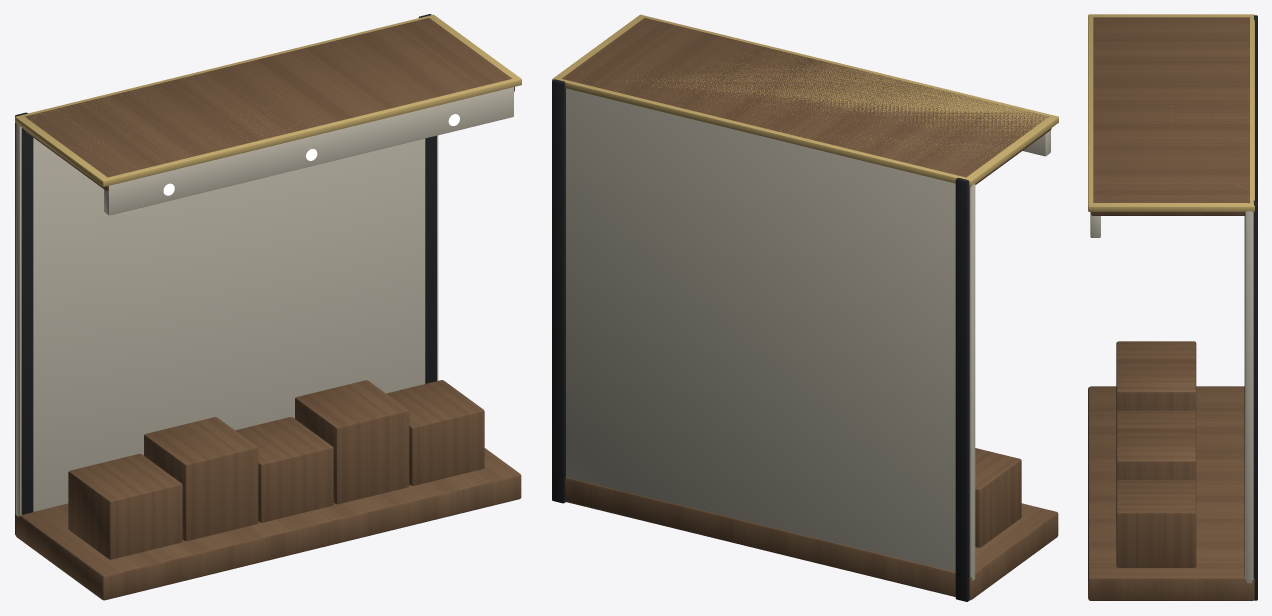
Rendered from pf_display_window_display_t4.glb.
The picture shows the model from 3 angles, left to right: view 1: azimuth 30°, elevation 25°; view 2: azimuth 150°, elevation 25°; view 3: azimuth 270°, elevation 25°; orthographic projection. The views are drawn at different scales.
Visible parts, largest first — view 1: Window_Backdrop, Crown_Main, Window_Display_Platform, Header_Back, Display_Plinth_01, Display_Plinth_04, Display_Plinth_02, Display_Plinth_03, Display_Plinth_05, Crown_Trim, Window_Frame_-1.16, Window_Frame_+1.16; view 2: Window_Backdrop, Crown_Main, Crown_Trim, Window_Display_Platform, Window_Frame_-1.16, Window_Frame_+1.16, Display_Plinth_01; view 3: Crown_Main, Window_Display_Platform, Display_Plinth_05, Display_Plinth_02, Display_Plinth_04, Crown_Trim, Window_Backdrop, Window_Frame_+1.16, Display_Plinth_01, Display_Plinth_03, Window_Frame_-1.16, Header_Back.
Part boxes in pixels (left/top/right/bottom): Window_Backdrop: left=15, top=123, right=438, bottom=516; Crown_Main: left=25, top=18, right=514, bottom=191; Window_Display_Platform: left=15, top=448, right=521, bottom=600; Header_Back: left=104, top=87, right=513, bottom=215; Display_Plinth_01: left=68, top=453, right=182, bottom=559; Display_Plinth_04: left=295, top=380, right=409, bottom=504; Display_Plinth_02: left=144, top=417, right=258, bottom=541; Display_Plinth_03: left=235, top=417, right=333, bottom=522; Display_Plinth_05: left=386, top=380, right=484, bottom=485; Crown_Trim: left=15, top=14, right=521, bottom=186; Window_Frame_-1.16: left=15, top=112, right=33, bottom=534; Window_Frame_+1.16: left=418, top=14, right=436, bottom=383; Window_Backdrop: left=566, top=88, right=975, bottom=580; Crown_Main: left=562, top=18, right=1051, bottom=184; Crown_Trim: left=552, top=14, right=1058, bottom=186; Window_Display_Platform: left=565, top=477, right=1058, bottom=600; Window_Frame_-1.16: left=955, top=177, right=969, bottom=601; Window_Frame_+1.16: left=552, top=79, right=565, bottom=503; Display_Plinth_01: left=975, top=448, right=1021, bottom=547; Crown_Main: left=1091, top=17, right=1249, bottom=215; Window_Display_Platform: left=1088, top=386, right=1254, bottom=600; Display_Plinth_05: left=1116, top=480, right=1196, bottom=567; Display_Plinth_02: left=1116, top=358, right=1196, bottom=411; Display_Plinth_04: left=1116, top=428, right=1196, bottom=481; Crown_Trim: left=1088, top=14, right=1254, bottom=211; Window_Backdrop: left=1245, top=211, right=1253, bottom=583; Window_Frame_+1.16: left=1244, top=200, right=1257, bottom=600; Display_Plinth_01: left=1116, top=341, right=1196, bottom=360; Display_Plinth_03: left=1116, top=410, right=1196, bottom=429; Window_Frame_-1.16: left=1254, top=15, right=1257, bottom=200; Header_Back: left=1090, top=212, right=1100, bottom=237.
Size of the model in its own units: 2.4 by 2.3 by 0.895.
6 materials, 2 textured.
